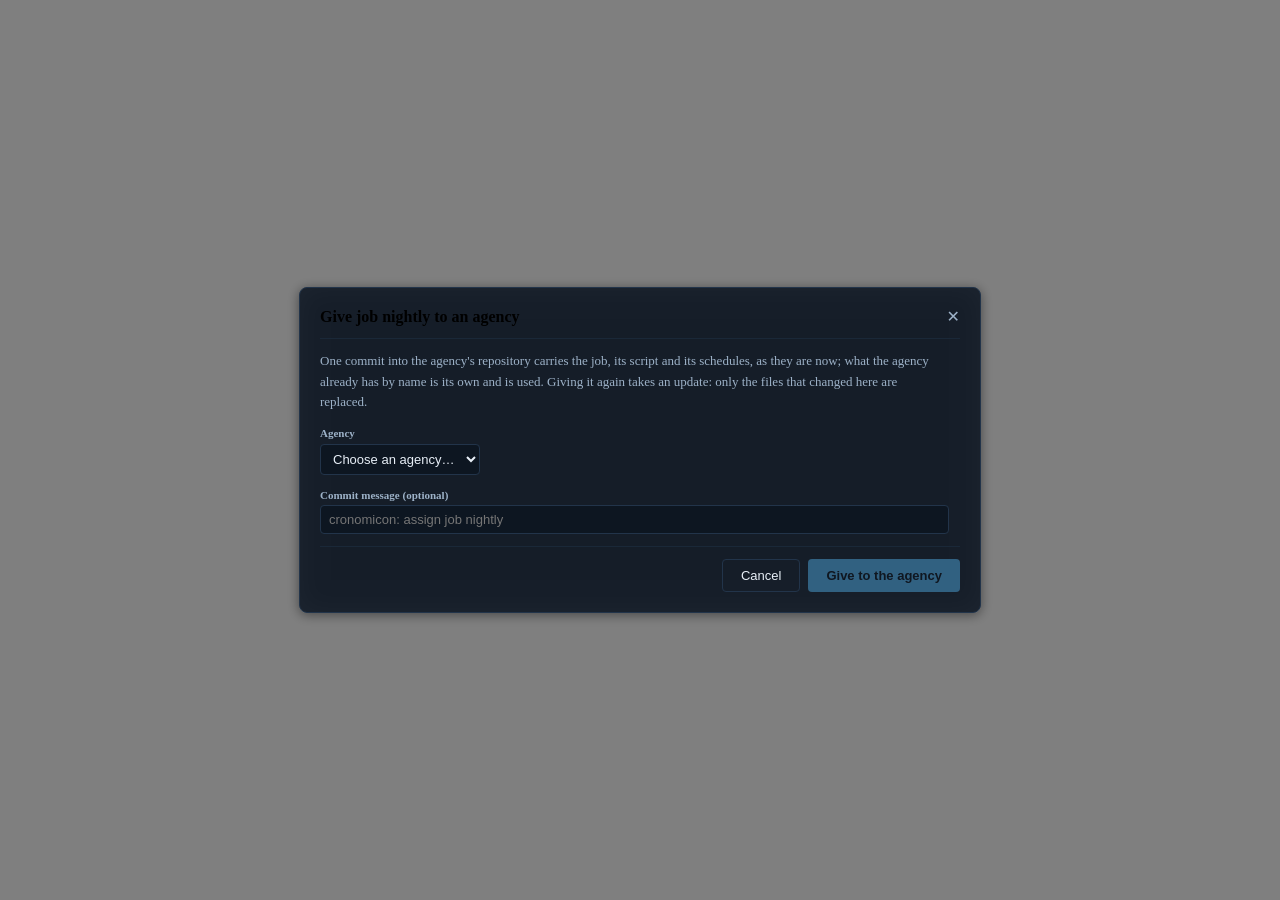
Test: AssignDialog › offers every agency but the origin, and only the scopes the target owns alone
The image size is (1280, 900).
Step 1. Select "Finance" in the dropdown named "Agency" → (400,459), box [320, 444, 480, 475]
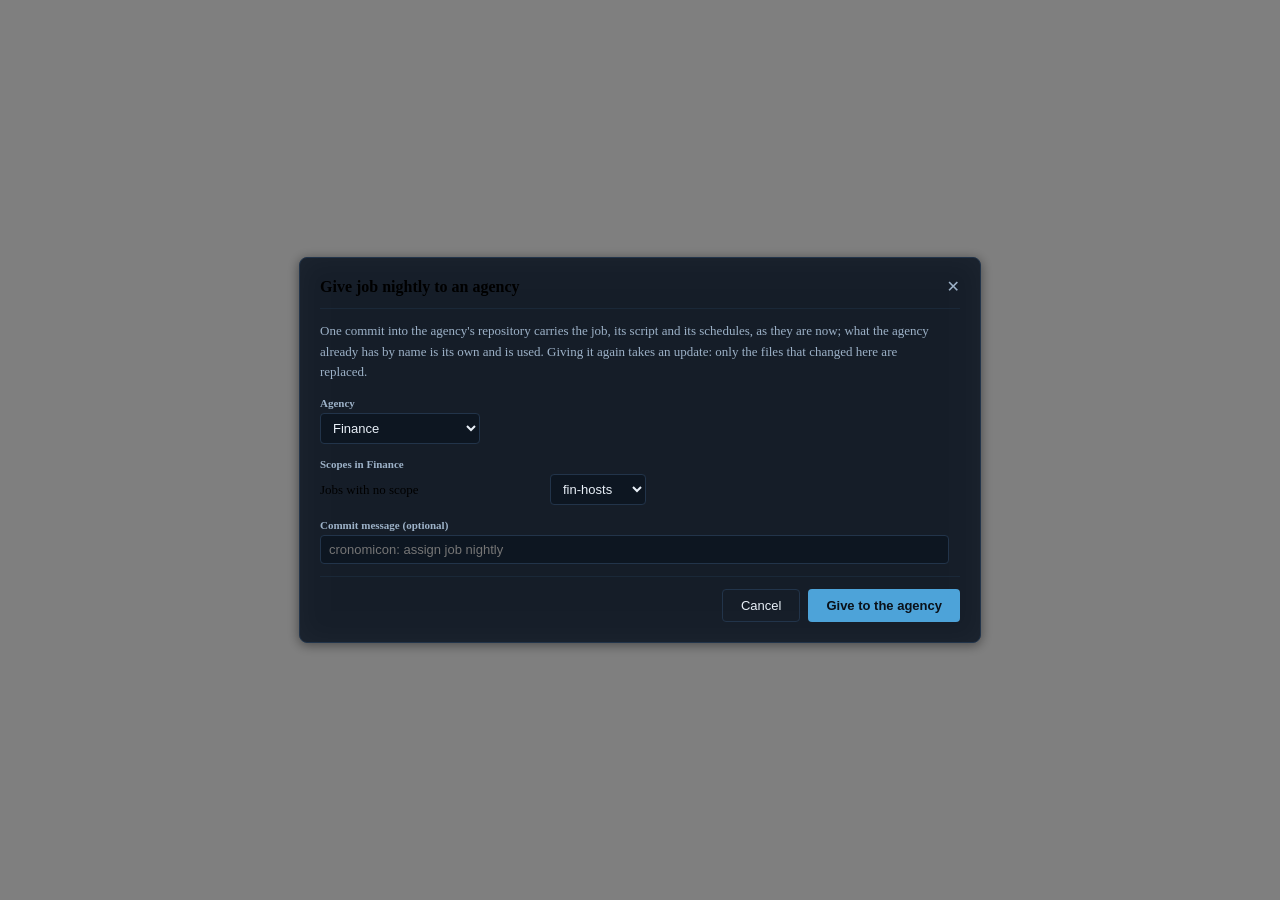
Expected: the dropdown named "Scope for jobs with no scope" shows "fin-hosts", [550, 474, 646, 505]
